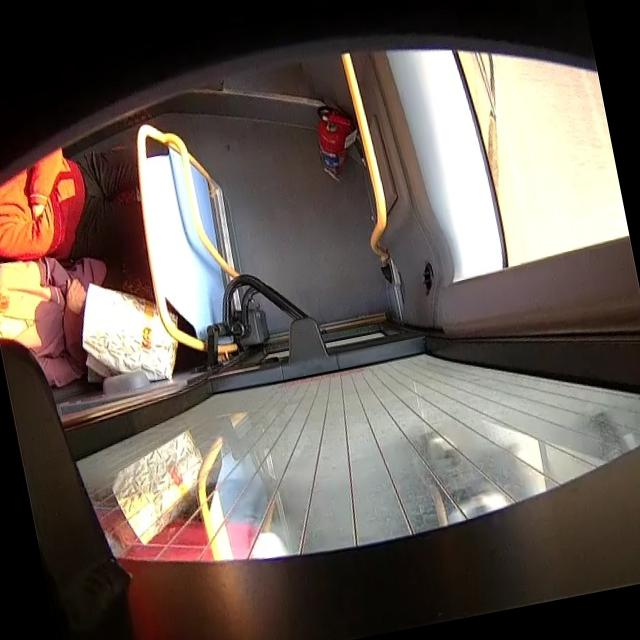bus-door: (0, 275, 640, 640), (0, 321, 640, 640)
